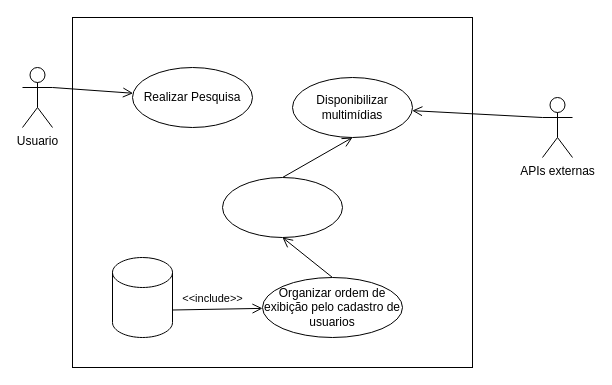
Some shapes in this 612 by 385 pixel diagram are drawn without their labels. The centre of each missing label's shape, as x and y in pixels:
Cadastro de usuarios: point (142, 297)
Pesquisar Multimidias externas: point (282, 207)
